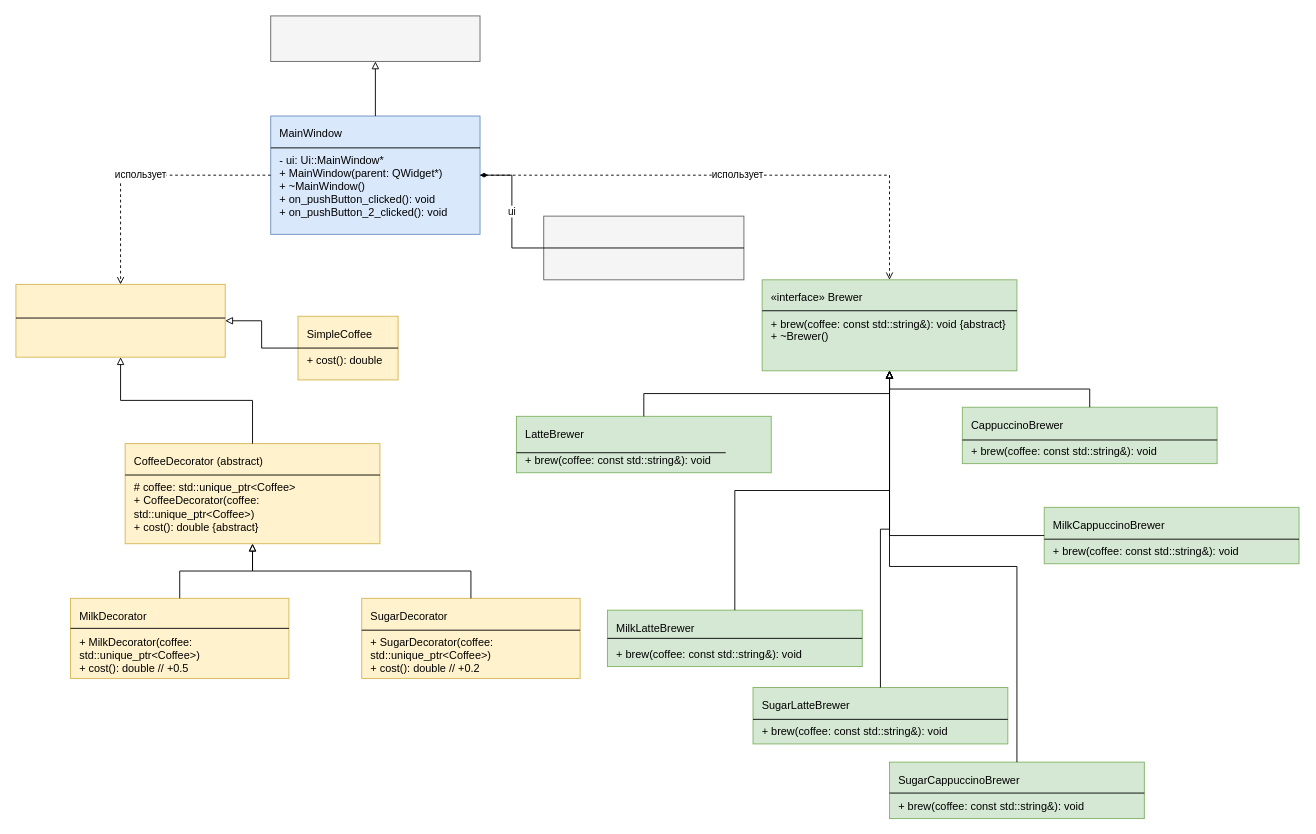
This 1316x834 diagram has some shape labels left out. Here are the shapes that lost their labels. From the top down, the box of each, then its label:
(270, 15, 480, 61): QMainWindow (Qt)
(543, 215, 744, 280): Ui::MainWindow (генерируется uic из .ui-файла)
(15, 283, 225, 357): «interface» Coffee + cost(): double {abstract} + ~Coffee()
